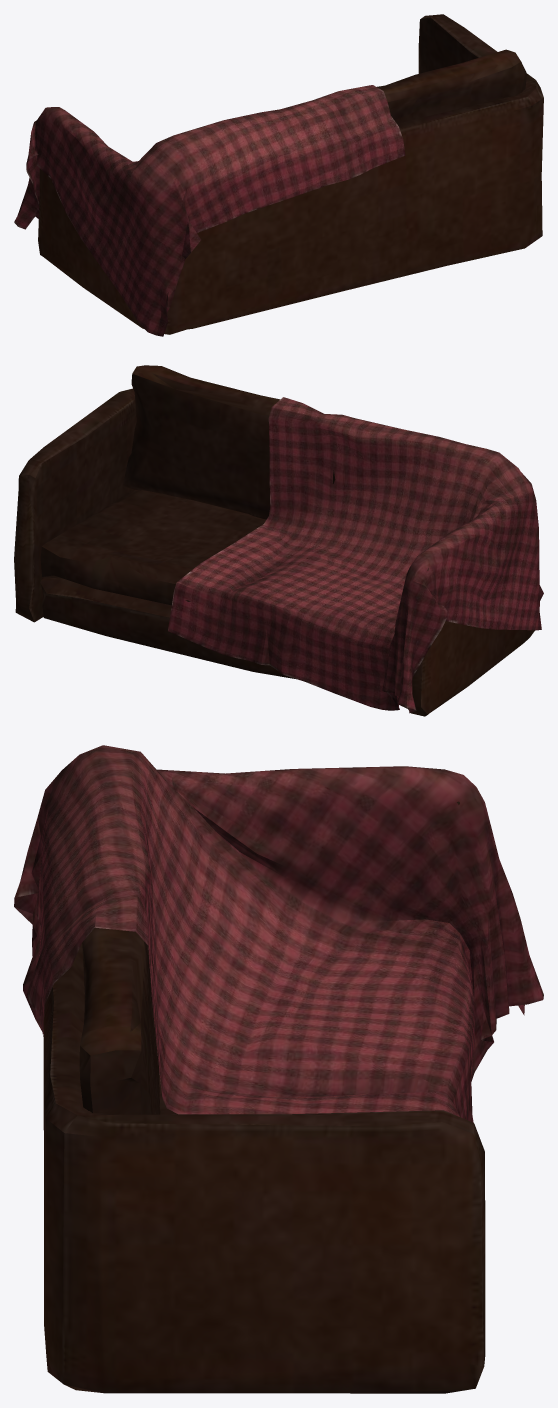
Rendered from sofa-manor-throw.lod1.glb.
3 renders of one model, top to bottom at view 1: azimuth 30°, elevation 25°; view 2: azimuth 150°, elevation 25°; view 3: azimuth 270°, elevation 25°, orthographic. The views are drawn at different scales.
Visible parts, largest first — view 1: sofa-manor-throw; view 2: sofa-manor-throw; view 3: sofa-manor-throw.
Part boxes in pixels (<box>): sofa-manor-throw: <box>14,14,543,336</box>; sofa-manor-throw: <box>14,365,543,716</box>; sofa-manor-throw: <box>14,745,543,1393</box>.
Bounding box in the file's own units: 2.2 × 0.9321 × 1.32.
Materials: 2 (2 with a texture image).
